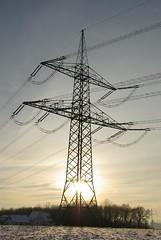power_tower: (23, 26, 144, 219)
